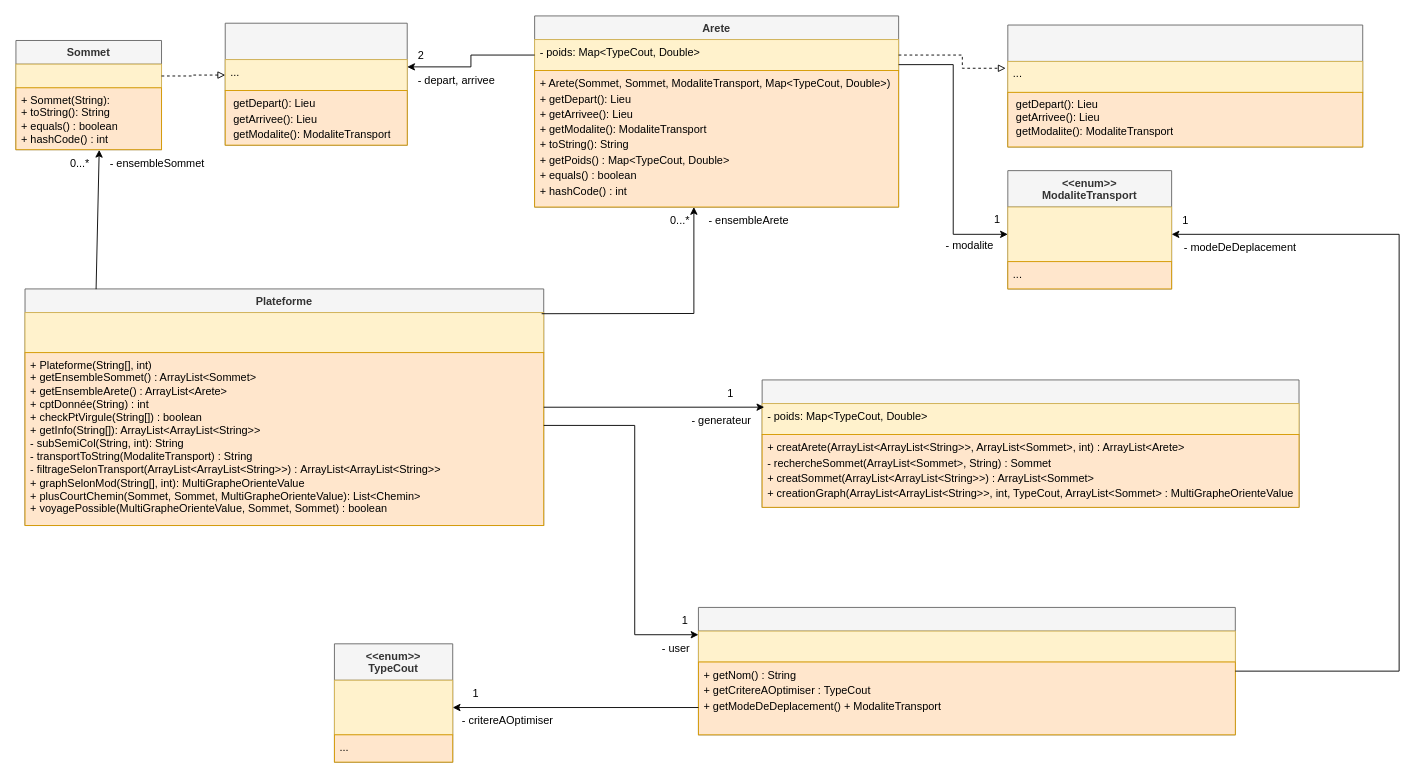
Some shapes in this 1422 by 781 pixel diagram are drawn without their labels. The box of each missing label's shape, as (x1, y1, x2, y2) in pixels:
- NB_VOYAGE_ELIGIBLE: int - NB_DONNEES: int: (24, 312, 544, 353)
- nom: String: (15, 63, 162, 88)
- String: (698, 630, 1235, 662)
GenGraph: (761, 379, 1299, 507)
PRIX CO2 TEMPS: (334, 679, 453, 735)
TRAIN AVION BUS: (1007, 206, 1172, 262)
Voyageur: (698, 607, 1235, 735)
≪interface≫ Lieu: (224, 22, 407, 145)
≪interface≫ Trancon: (1007, 24, 1363, 147)
